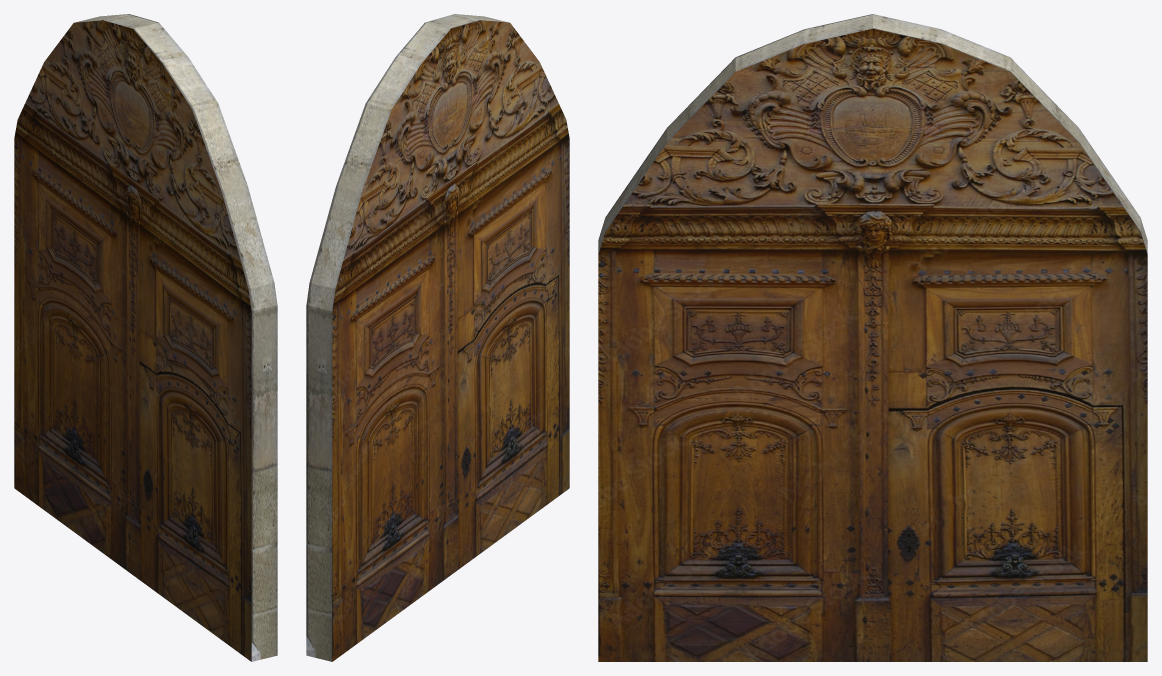
File: porteChateau.fbx
3 renders of one model, left to right at view 1: azimuth 30°, elevation 25°; view 2: azimuth 150°, elevation 25°; view 3: azimuth 270°, elevation 25°, orthographic. The views are drawn at different scales.
Parts seen in each view (by area): view 1: Cube; view 2: Cube; view 3: Cube.
Boxes of the visible parts, <box> form: Cube: <box>14,14,277,661</box>; Cube: <box>306,14,569,661</box>; Cube: <box>598,14,1147,661</box>.
Bounding box in the file's own units: 75.05 × 1508 × 1186.
